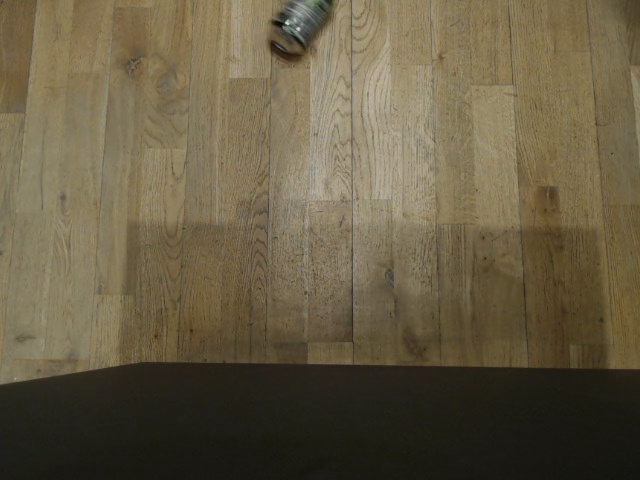beer: (262, 0, 334, 56)
